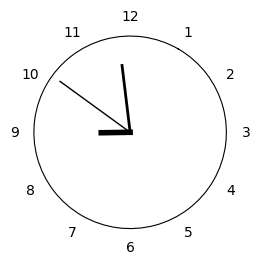12: (122, 9, 138, 23)
circle: (33, 35, 227, 229)
hours: (98, 129, 133, 136)
minutes: (120, 64, 130, 129)
seconds: (59, 81, 126, 130)
